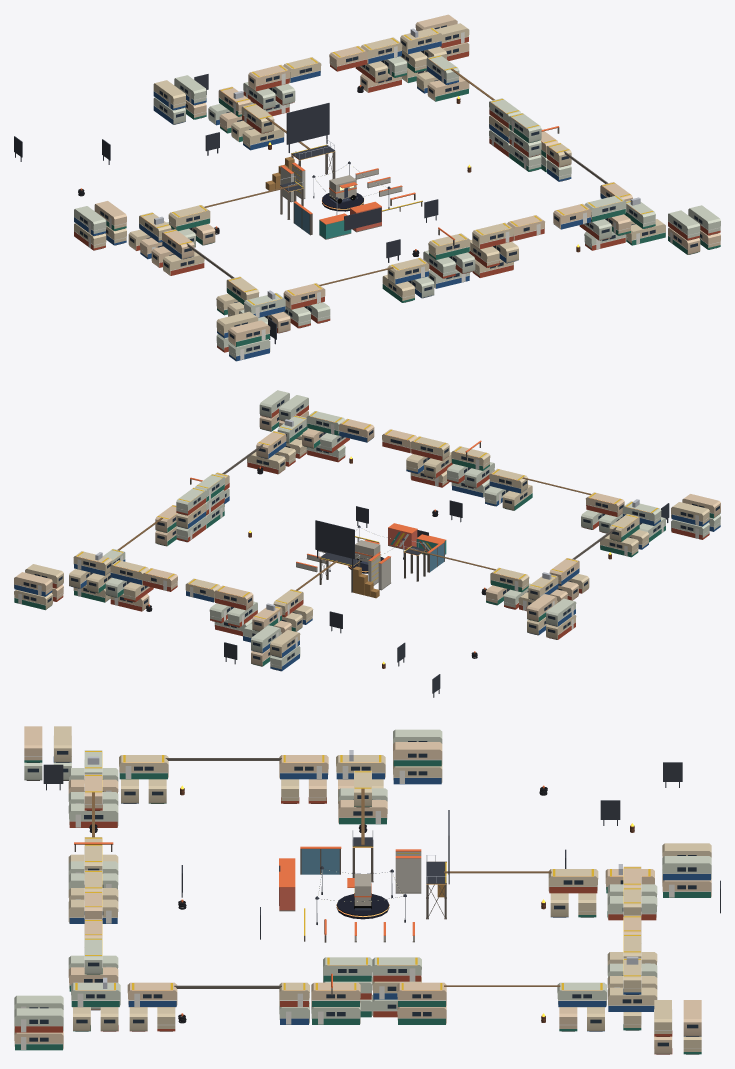
The picture shows the model from 3 angles, top to bottom: view 1: azimuth 30°, elevation 25°; view 2: azimuth 150°, elevation 25°; view 3: azimuth 270°, elevation 25°; orthographic projection. The views are drawn at different scales.
Visible parts, largest first — view 1: district_city_vertical.lod1; view 2: district_city_vertical.lod1; view 3: district_city_vertical.lod1.
Part boxes in pixels (x1=…): district_city_vertical.lod1: x1=14, y1=14, x2=720, y2=361; district_city_vertical.lod1: x1=14, y1=390, x2=720, y2=697; district_city_vertical.lod1: x1=14, y1=726, x2=720, y2=1054.
Bounding box in the file's own units: 95.85 × 12.95 × 97.09.
